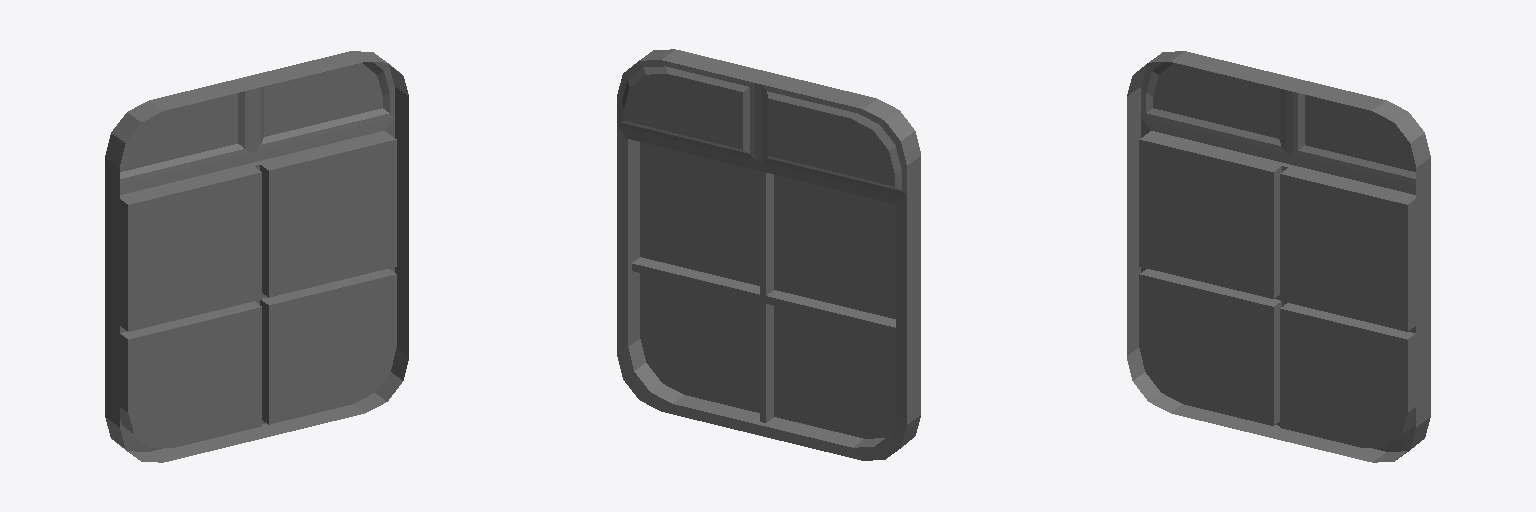
Rendered from Window.obj.
The picture shows the model from 3 angles: view 1: azimuth 30°, elevation 25°; view 2: azimuth 150°, elevation 25°; view 3: azimuth 330°, elevation 25°; orthographic projection.
Visible parts, largest first — view 1: polySurface4; view 2: polySurface4; view 3: polySurface4.
Part boxes in pixels (bbox=[...]): polySurface4: bbox=[105, 51, 408, 462]; polySurface4: bbox=[617, 49, 920, 460]; polySurface4: bbox=[1127, 51, 1430, 462].
Bounding box in the file's own units: 178 × 206 × 18.18.